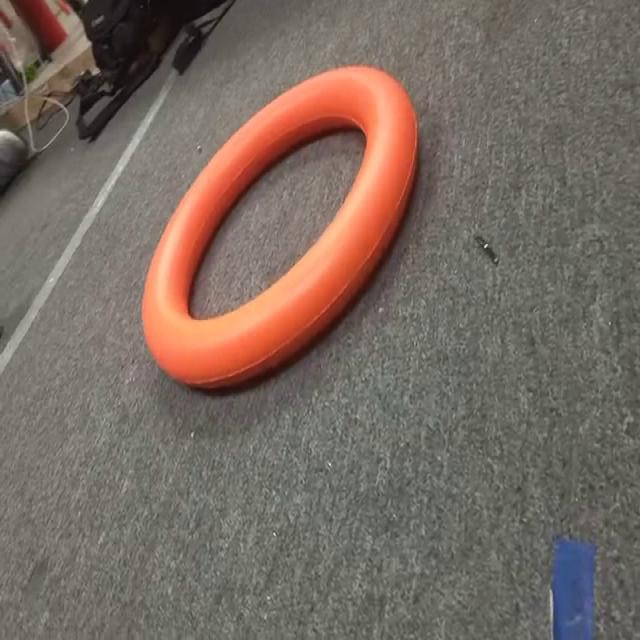note: (134, 62, 440, 404)
